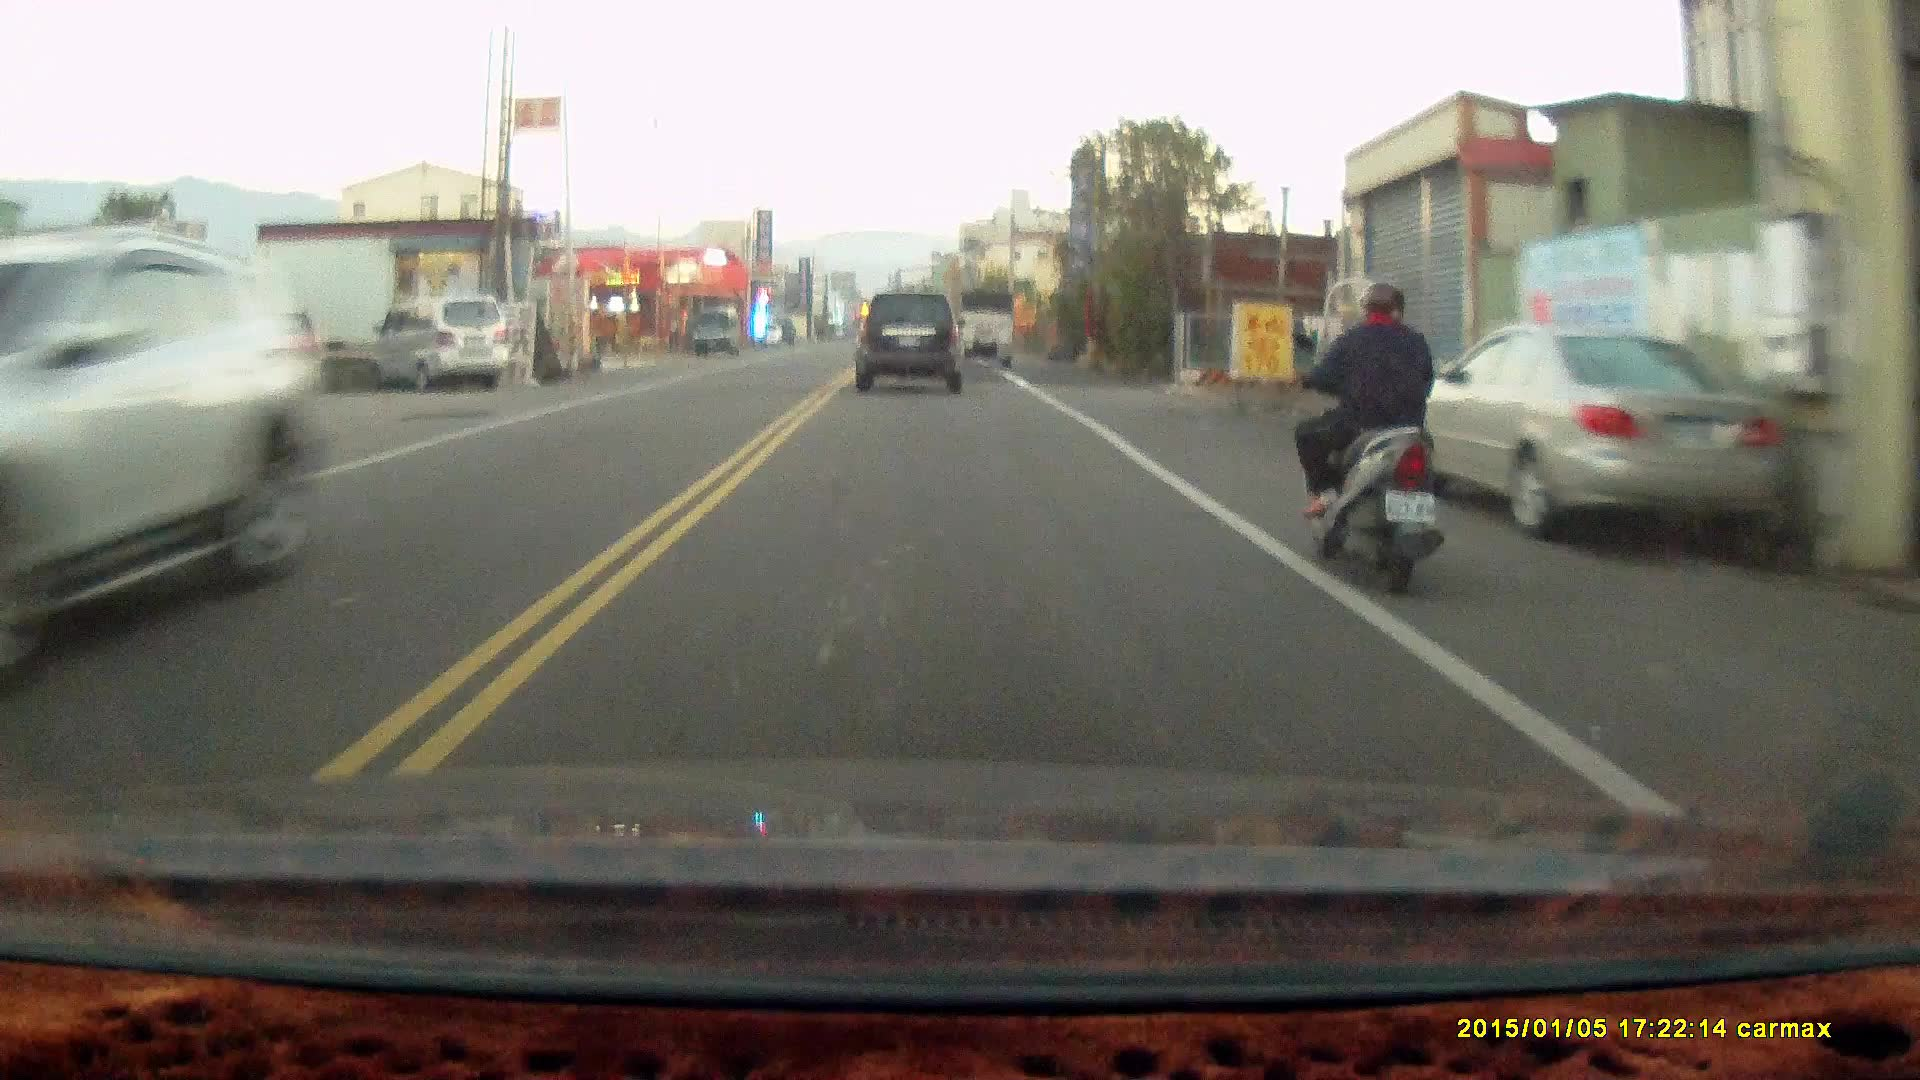rider: (1289, 267, 1443, 586)
vehicle: (1, 224, 336, 686), (1386, 314, 1807, 546), (373, 294, 511, 393), (854, 288, 971, 395), (956, 288, 1018, 369)
